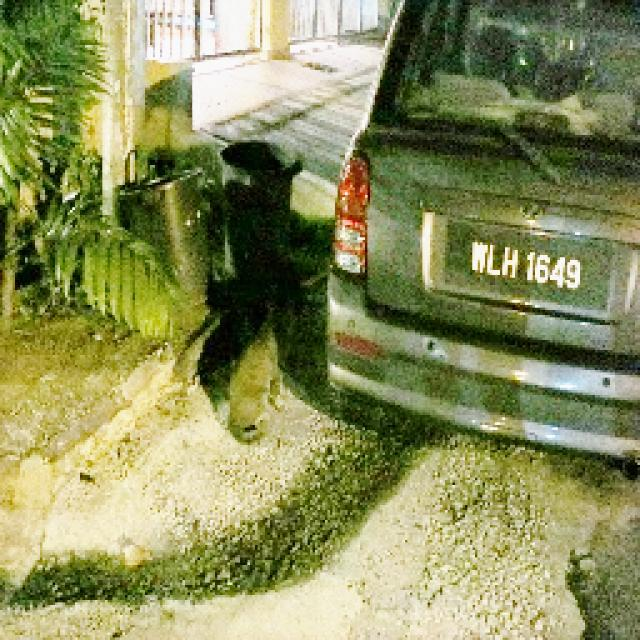cat: (198, 266, 341, 459)
